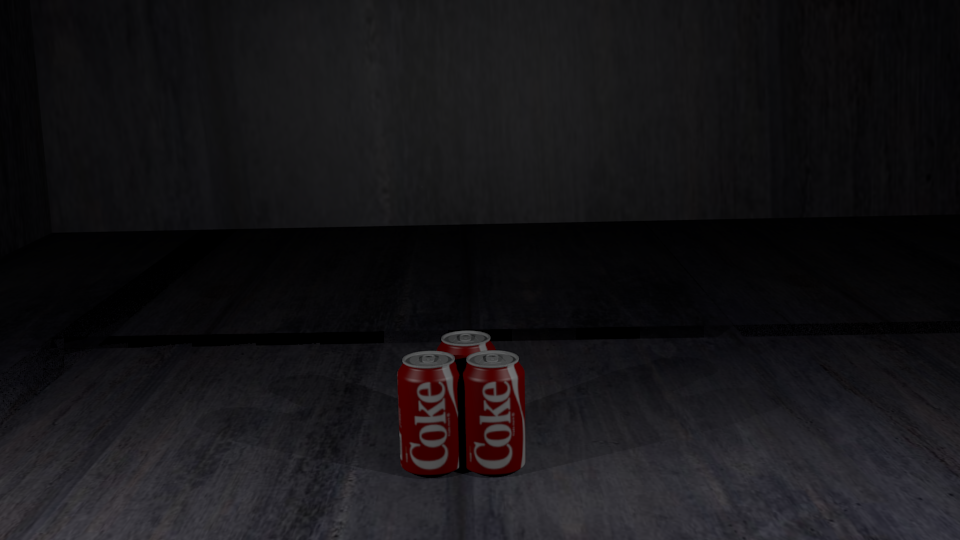cola_can: (397, 351, 461, 472), (461, 351, 524, 470), (437, 331, 495, 444)
